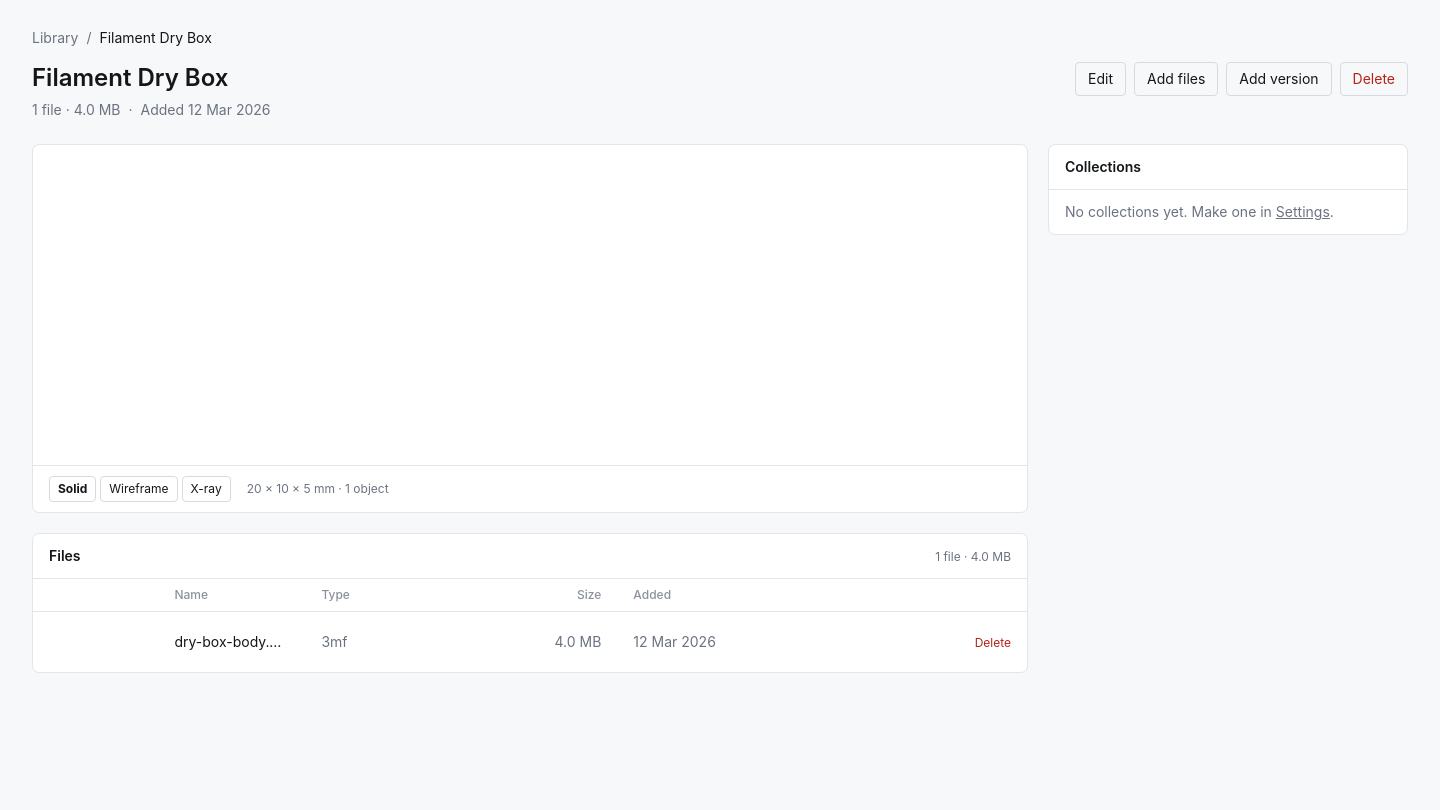
Scenario: model detail page › re-reads the model after a file is deleted
Expected: the link "dry-box-body.3mf" is shown, [174,632,289,652]
Click the button with aria-label "Delete dry-box-body.3mf": (993, 643) [975,635,1011,651]
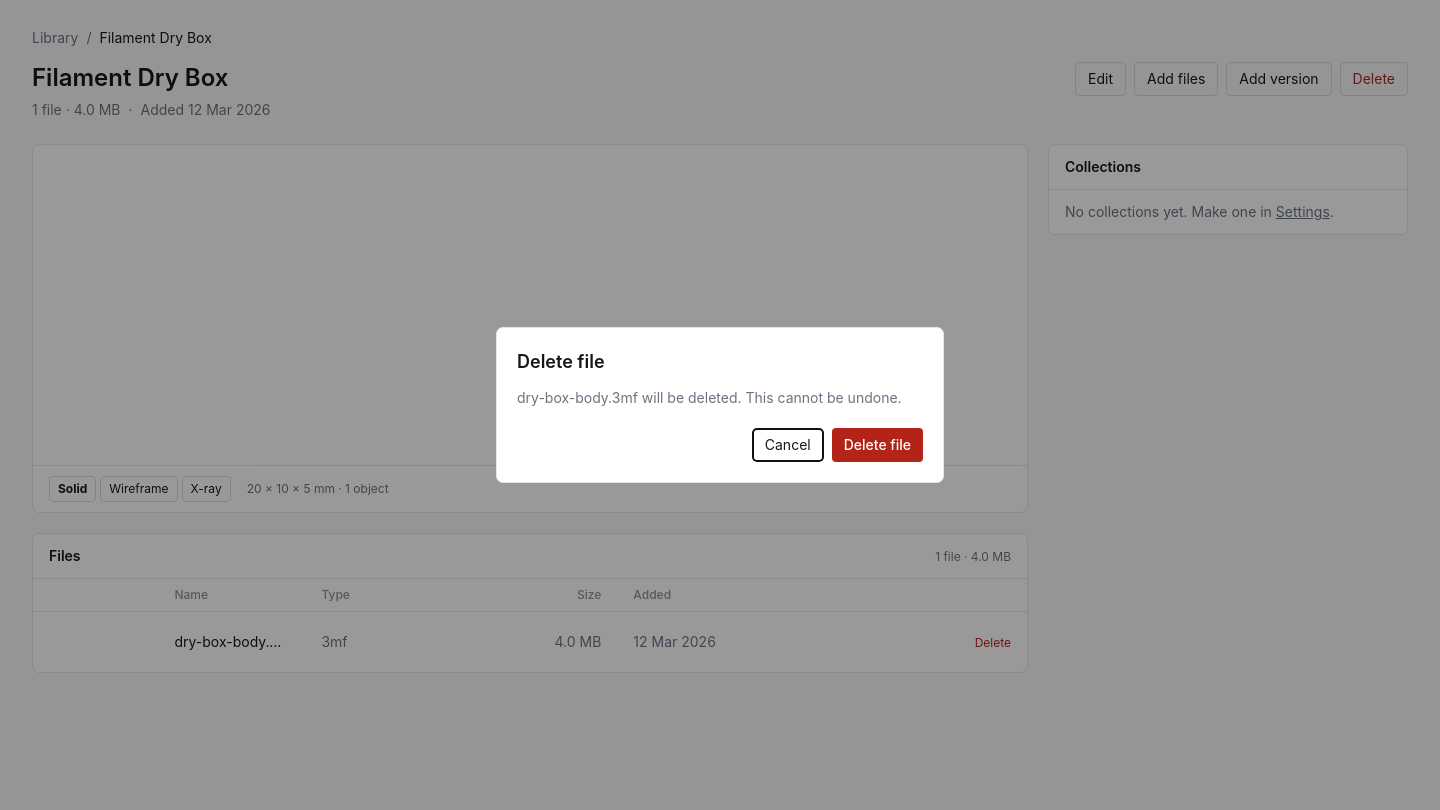
Expected: the dialog shows "dry-box-body.3mf will be deleted", [517,389,902,406]
Click the button "Delete file": (877, 445) [832,428,923,462]
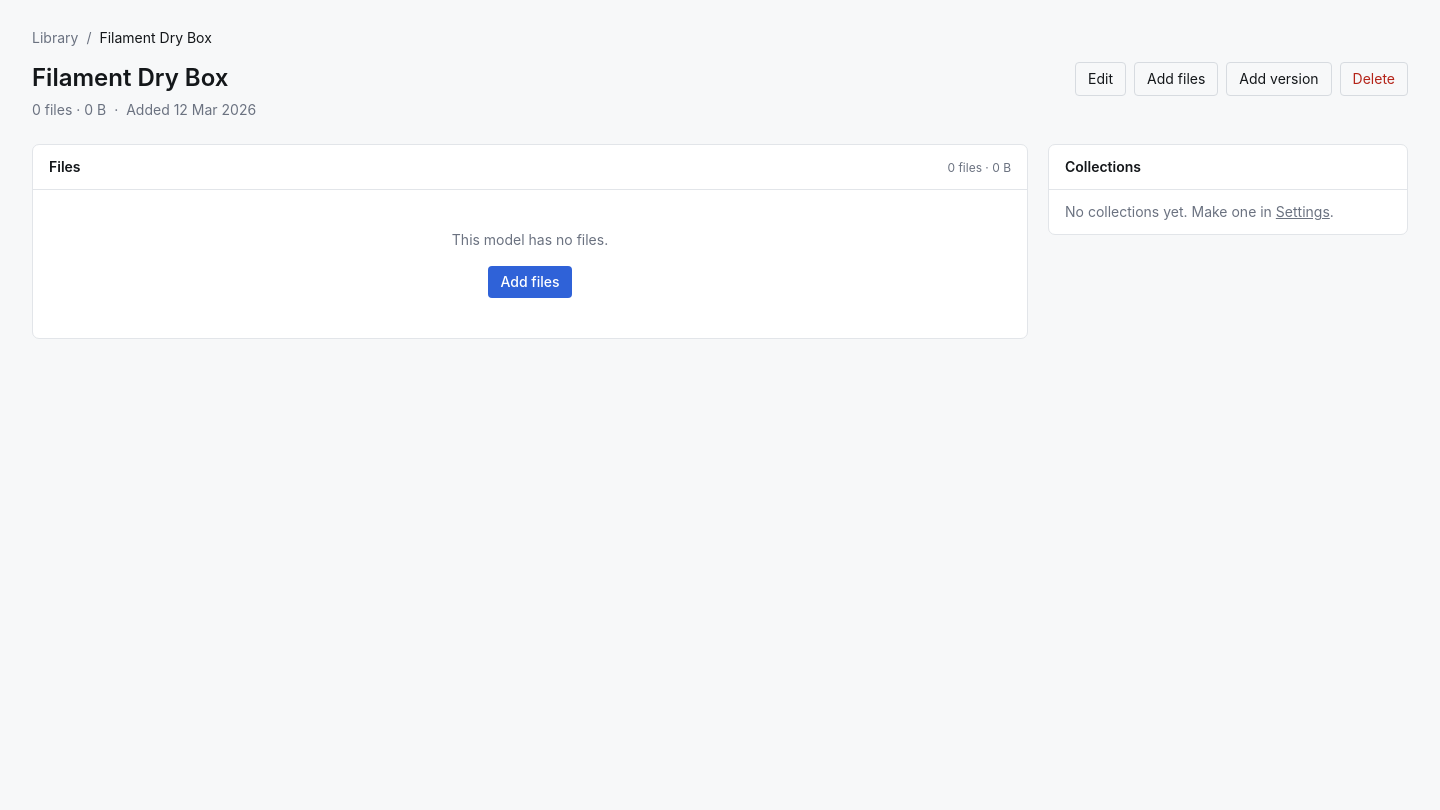
Expected: the text "This model has no files." is shown, [452,231,608,248]
